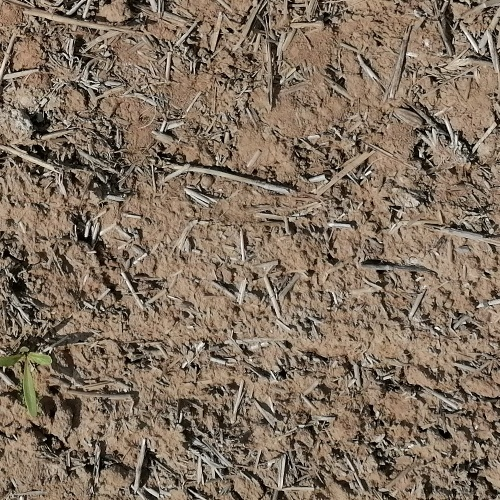beet: (0, 347, 54, 417)
